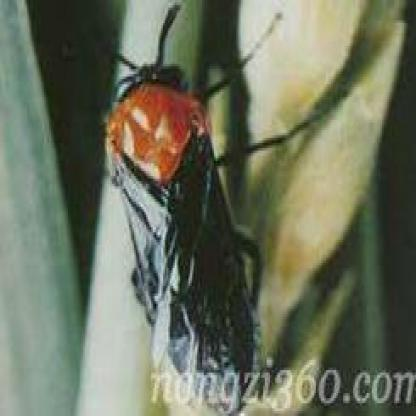sawfly: (92, 0, 353, 416)
